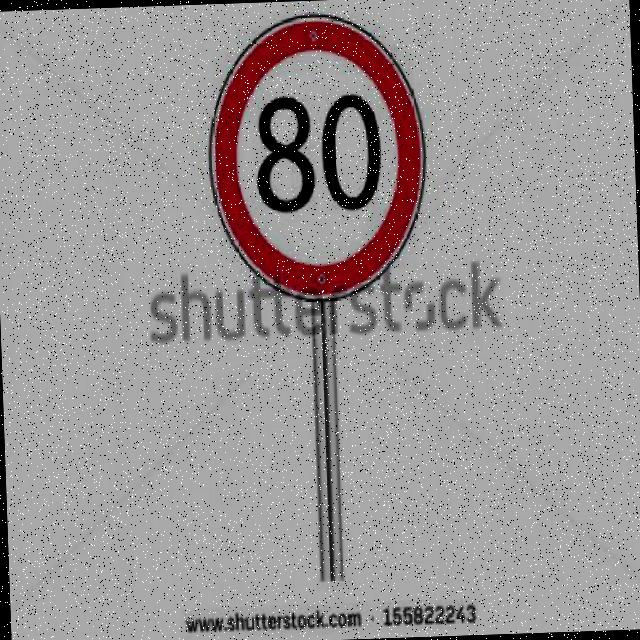Ograniczenie predkosci do 80: (220, 38, 412, 284)
